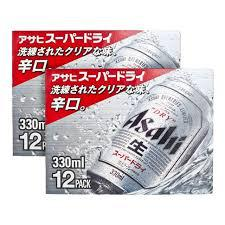beer: (87, 79, 214, 197)
